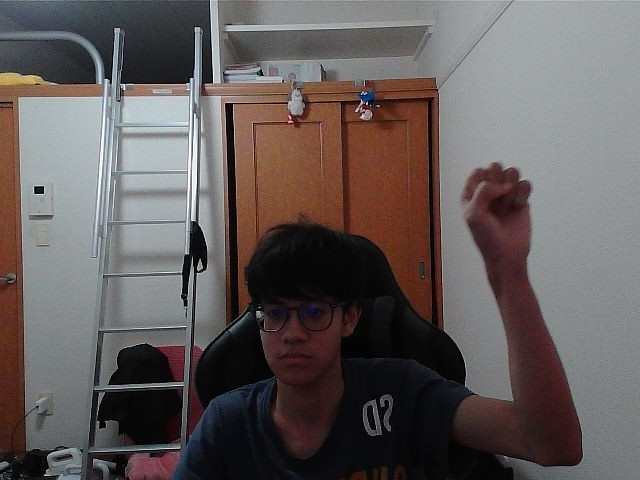closed_palm: (474, 169, 525, 254)
